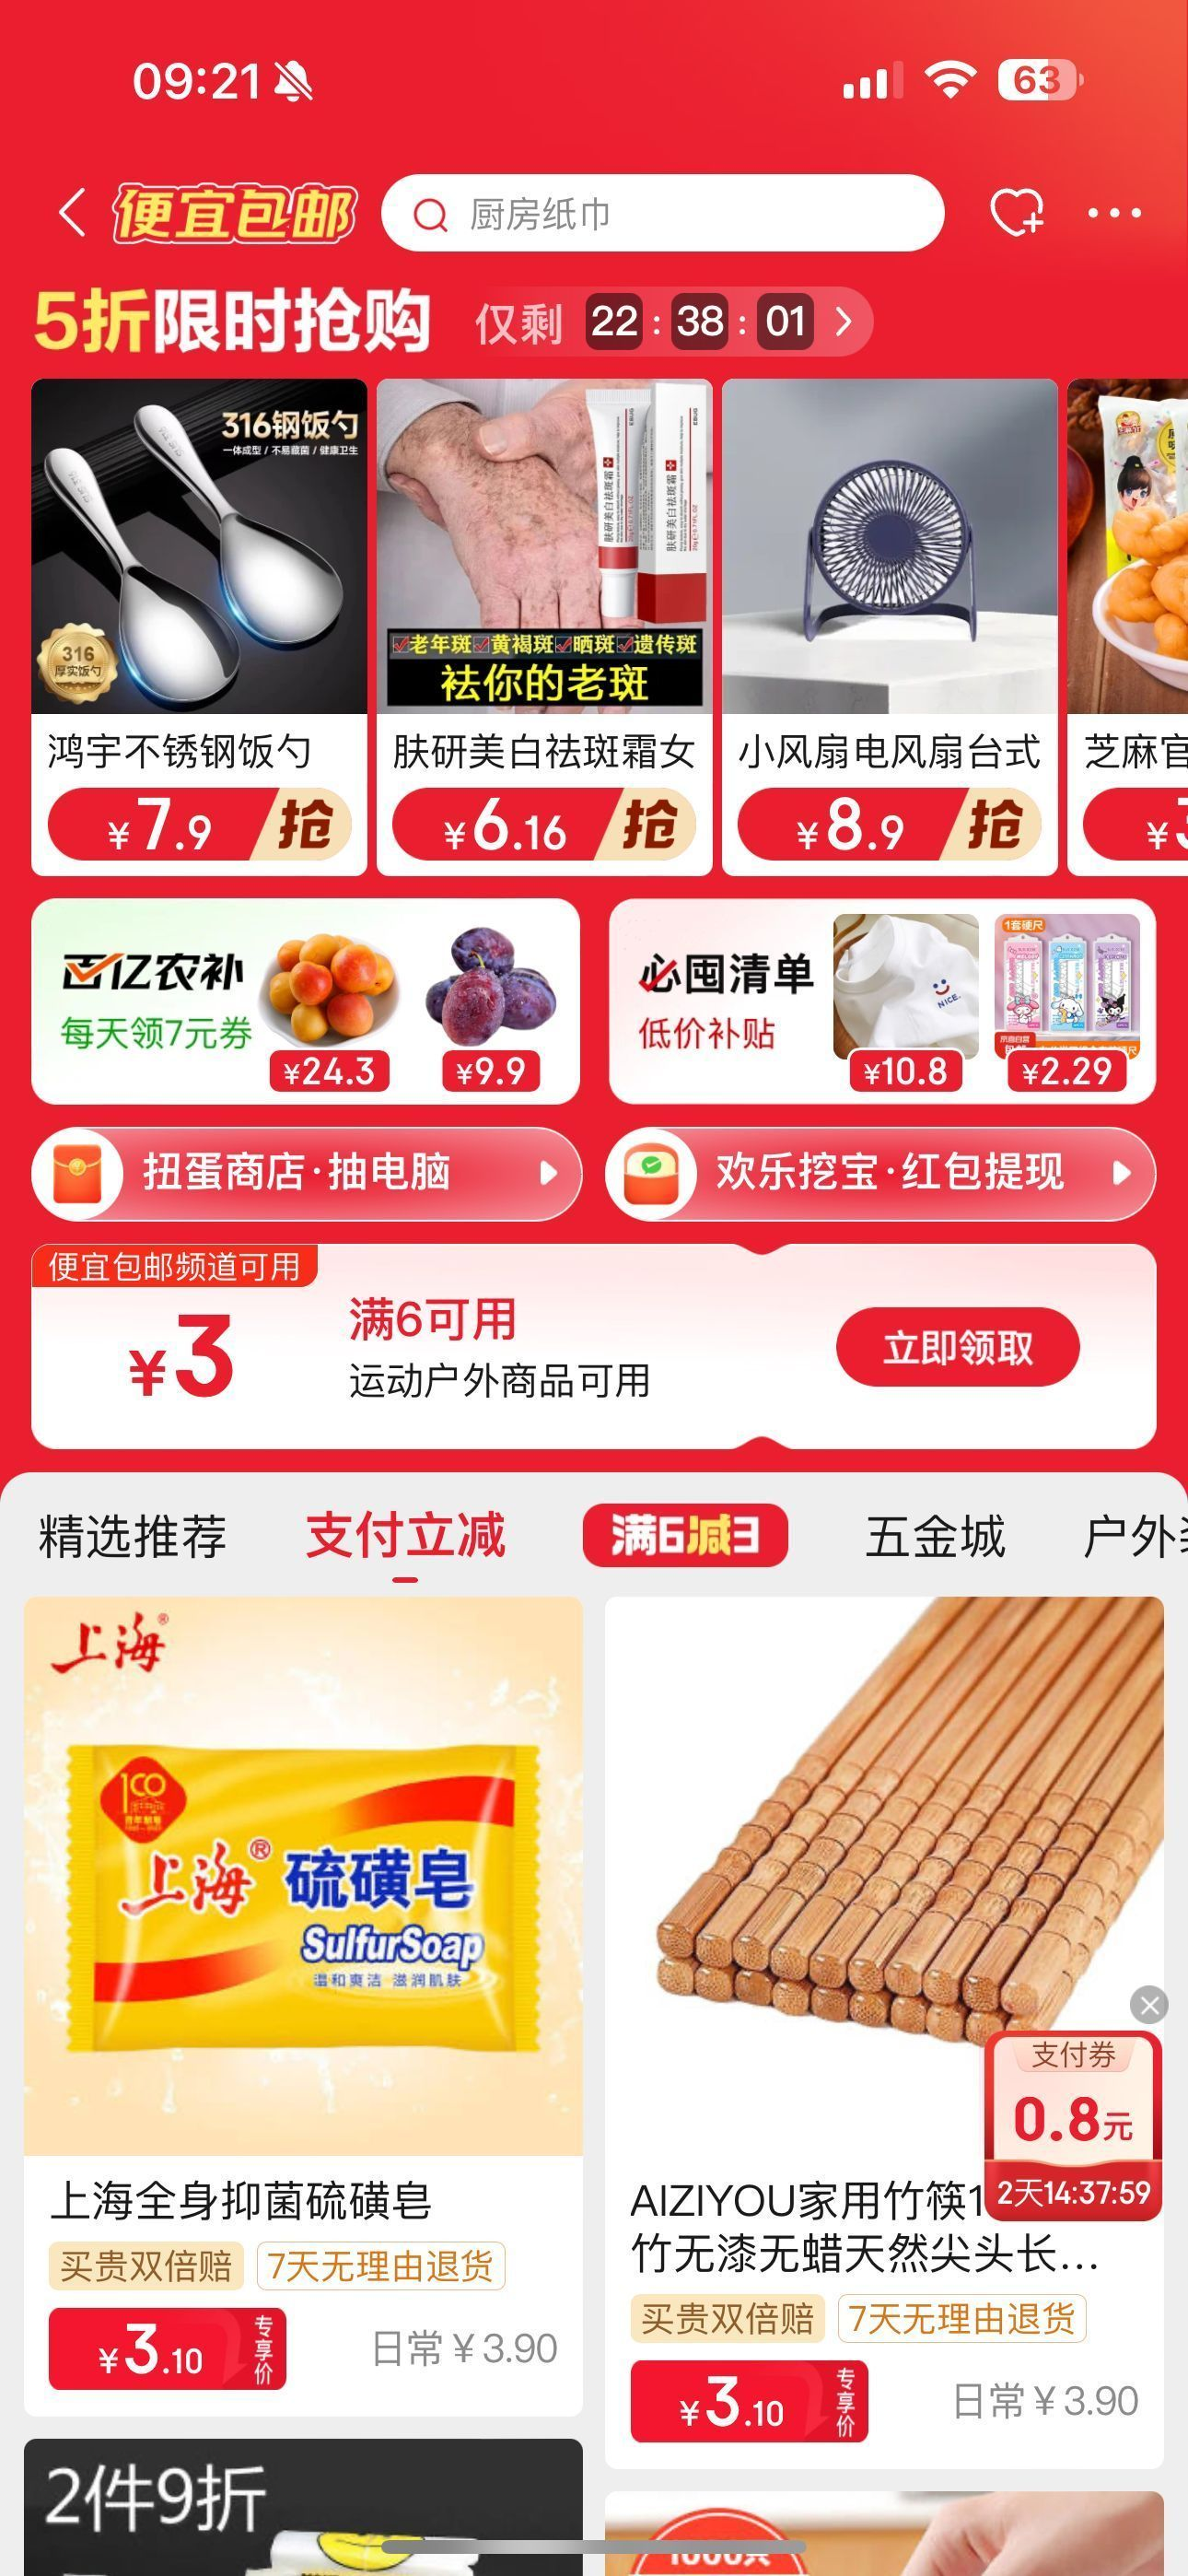banner: (13, 1237, 1181, 1467)
item: (605, 1577, 1181, 2487), (5, 1577, 600, 2436)
op_bar: (5, 146, 1178, 271)
seckill: (20, 360, 1185, 1230)
